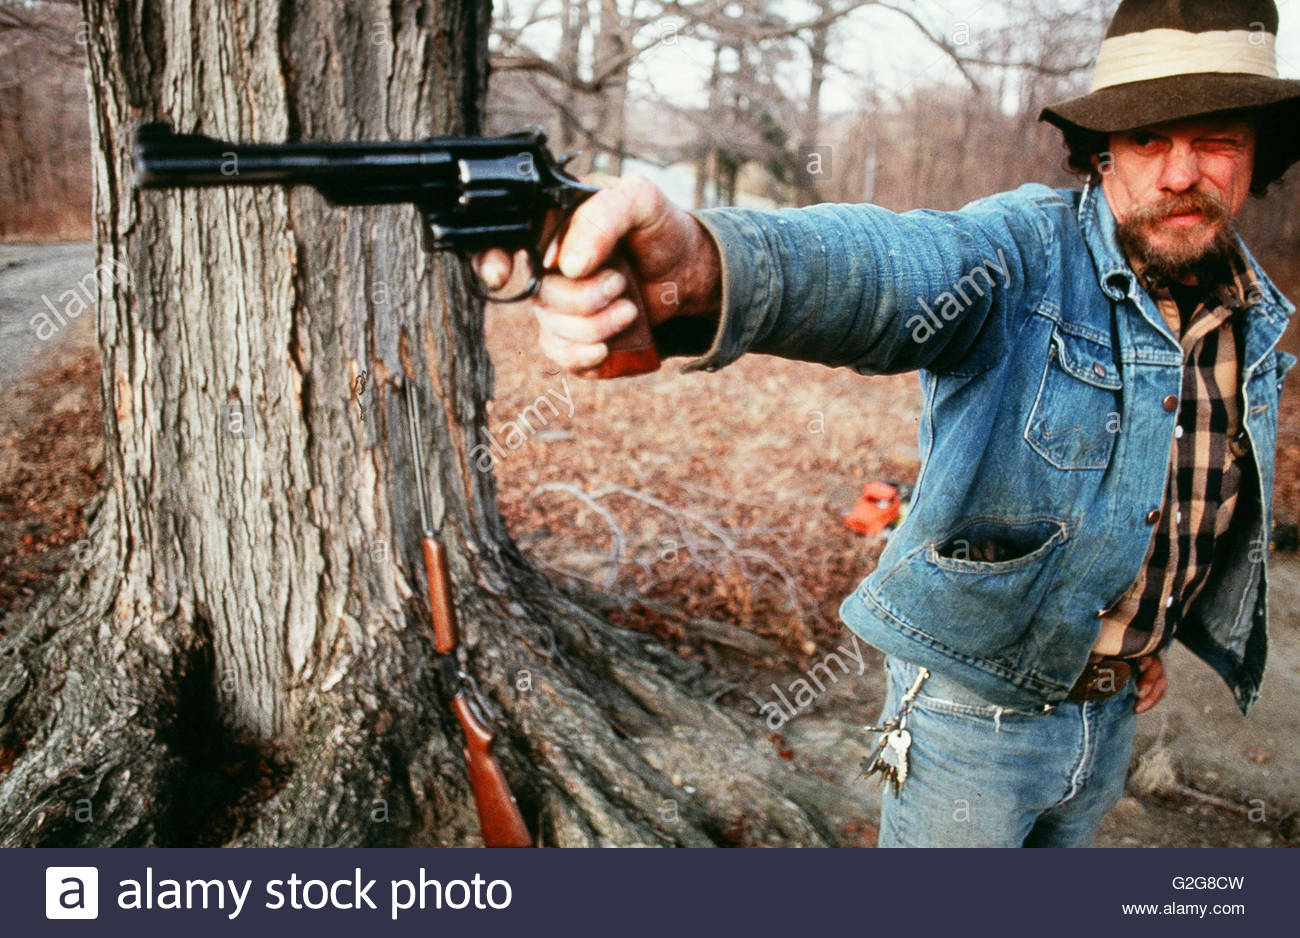Revolver: (106, 66, 665, 383)
